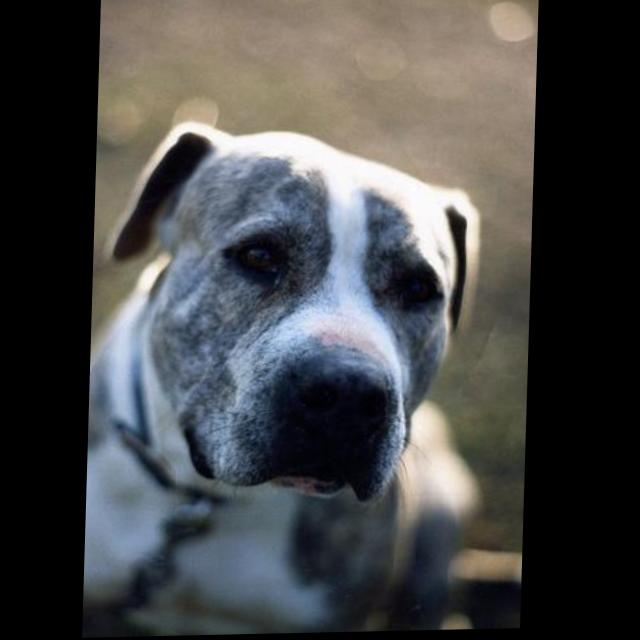amstaff: (88, 111, 497, 639)
